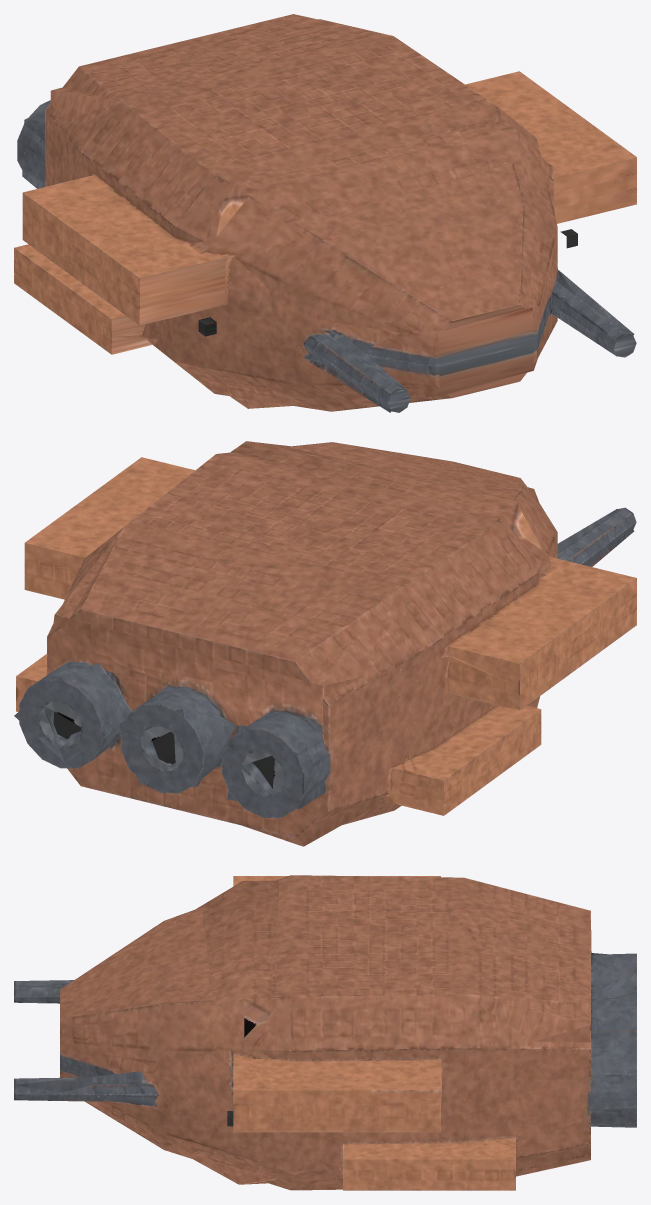
Rendered from sd_npc_brute.glb.
3 views of the same model, one above another, from view 1: azimuth 30°, elevation 25°; view 2: azimuth 150°, elevation 25°; view 3: azimuth 270°, elevation 25° (orthographic). The views are drawn at different scales.
Visible parts, largest first — view 1: LOD0_body, LOD1_body; view 2: LOD0_body, LOD1_body; view 3: LOD0_body, LOD1_body.
Part boxes in pixels (x1=…): LOD0_body: x1=14, y1=14, x2=636, y2=412; LOD1_body: x1=22, y1=19, x2=634, y2=412; LOD0_body: x1=16, y1=442, x2=636, y2=838; LOD1_body: x1=14, y1=441, x2=634, y2=846; LOD0_body: x1=14, y1=875, x2=636, y2=1190; LOD1_body: x1=14, y1=880, x2=636, y2=1184.
Size of the model in its own units: 0.8148 by 0.3426 by 1.
1 material, 1 textured.
